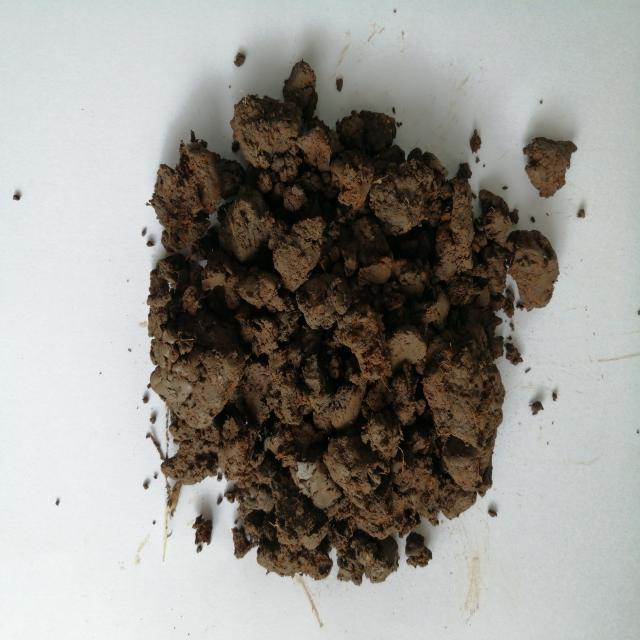soil: (185, 163, 528, 594)
